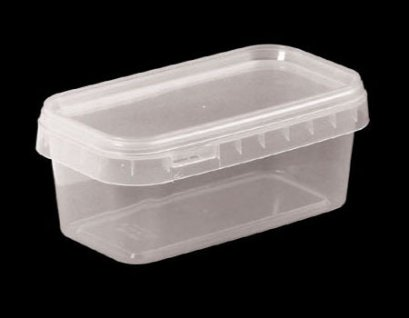PlasticBox: (32, 41, 371, 268)
